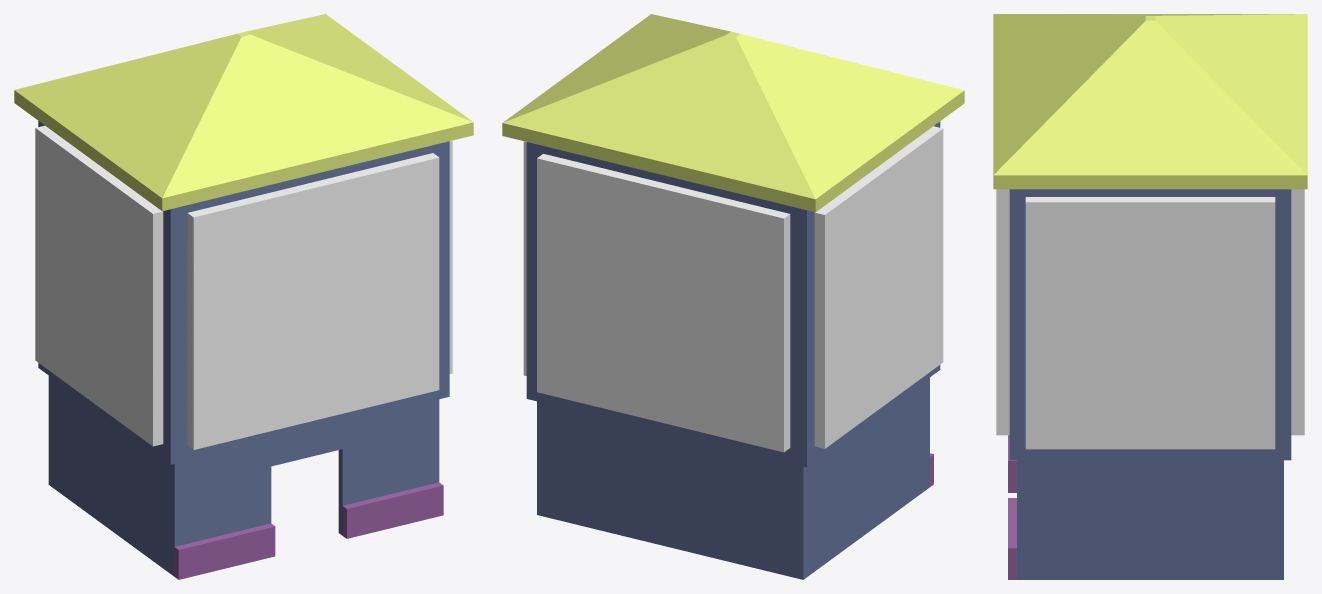
Rendered from yellowAdsTotem_Geo.fbx.
The picture shows the model from 3 angles, left to right: view 1: azimuth 30°, elevation 25°; view 2: azimuth 150°, elevation 25°; view 3: azimuth 270°, elevation 25°; orthographic projection. The views are drawn at different scales.
Parts seen in each view (by area): view 1: yellowAdsTotem; view 2: yellowAdsTotem; view 3: yellowAdsTotem.
Boxes of the visible parts, box(x1,y1,x2,y2) form: yellowAdsTotem: box(14, 14, 473, 579); yellowAdsTotem: box(502, 14, 964, 579); yellowAdsTotem: box(993, 14, 1307, 579).
Bounding box in the file's own units: 1248 × 1777 × 1027.
